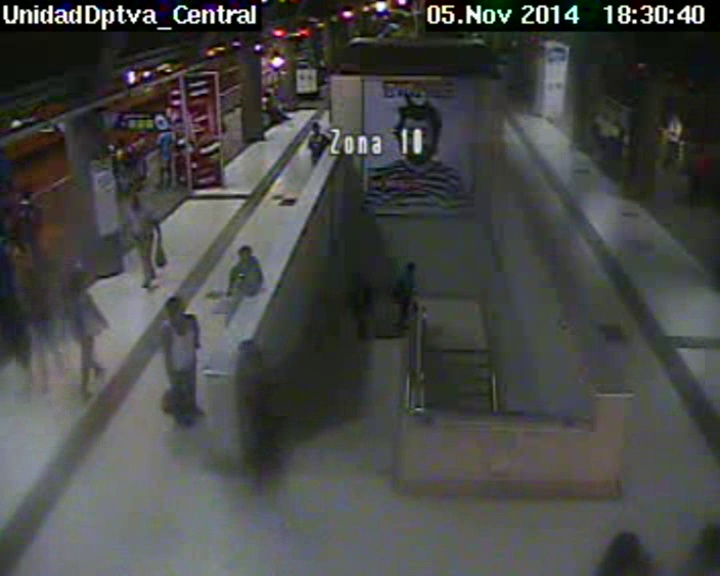person: (237, 341, 261, 370), (163, 297, 184, 320), (235, 242, 253, 260), (68, 269, 84, 286), (126, 195, 141, 211), (355, 273, 369, 289), (19, 189, 33, 203), (159, 122, 174, 135), (30, 273, 43, 288), (403, 261, 417, 274), (116, 137, 129, 150), (310, 122, 322, 134), (668, 110, 680, 122), (134, 134, 145, 146), (695, 146, 706, 157), (604, 109, 613, 120), (264, 91, 271, 98)
